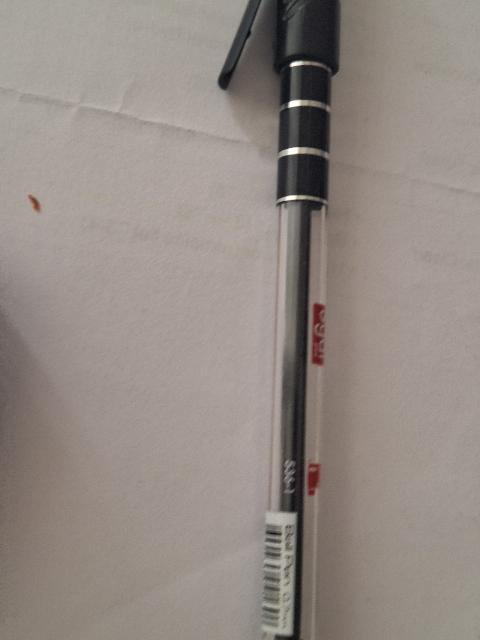writing_tool: (218, 0, 344, 640)
